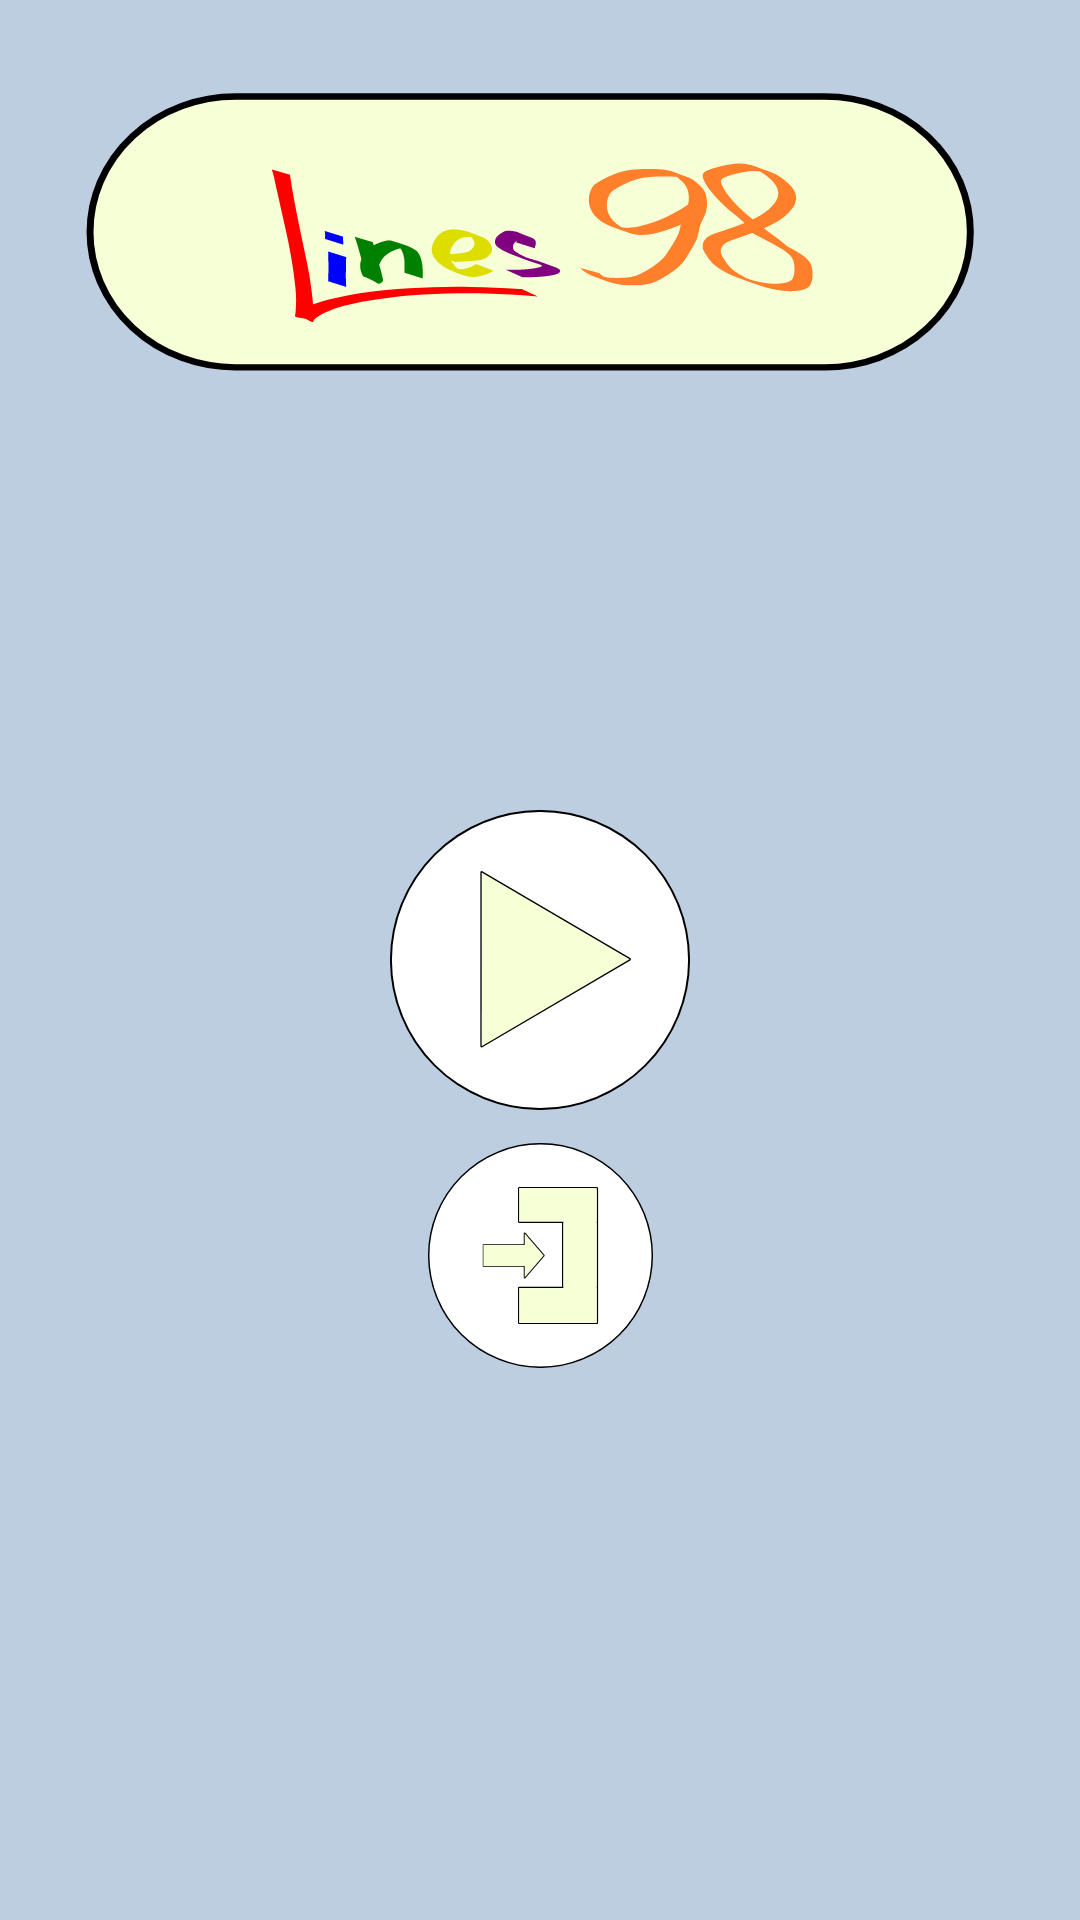

Icons on this 1080px x 1920px Android screen, each with the point to tap as (x=x, y=y):
exit: (x=540, y=1255)
resume: (x=540, y=960)
